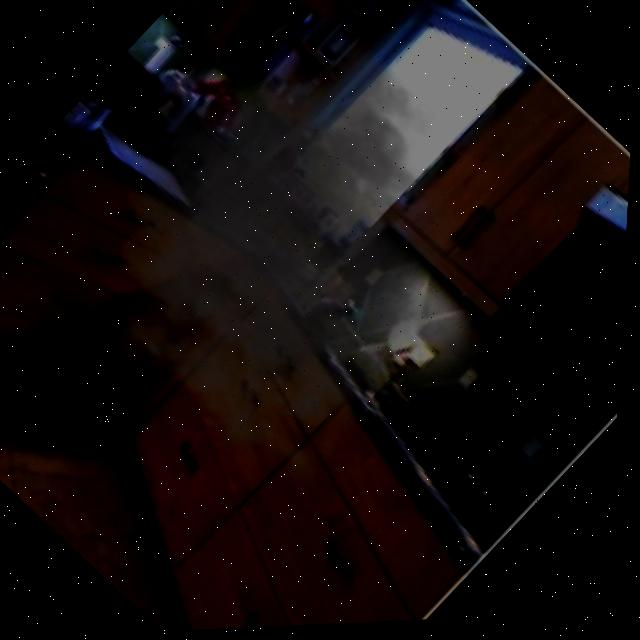Smoke: (0, 0, 594, 546)
